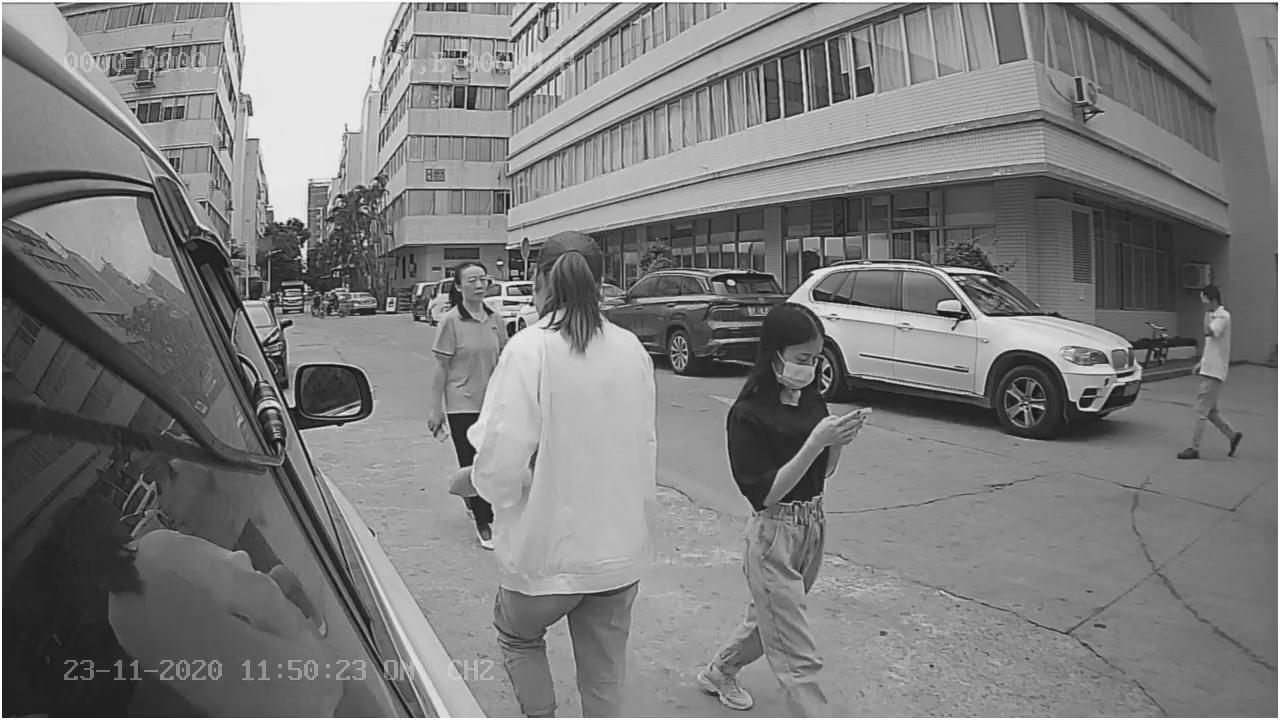person: (705, 294, 875, 546), (1175, 283, 1247, 466)
